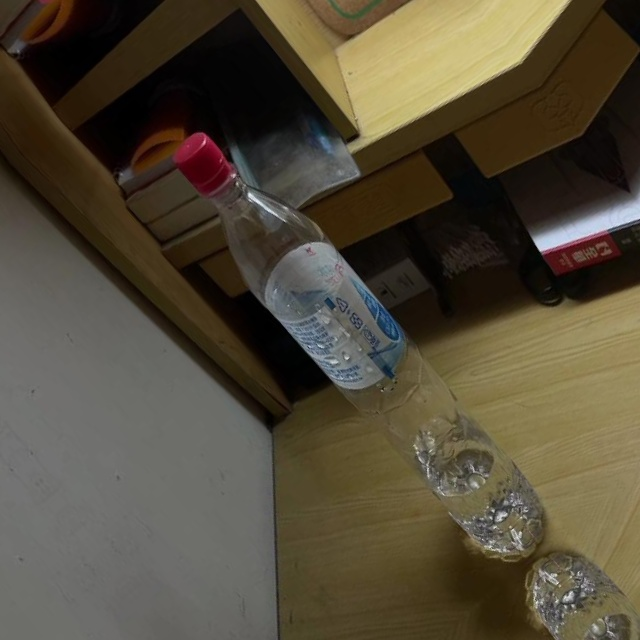Water: (148, 109, 571, 587)
